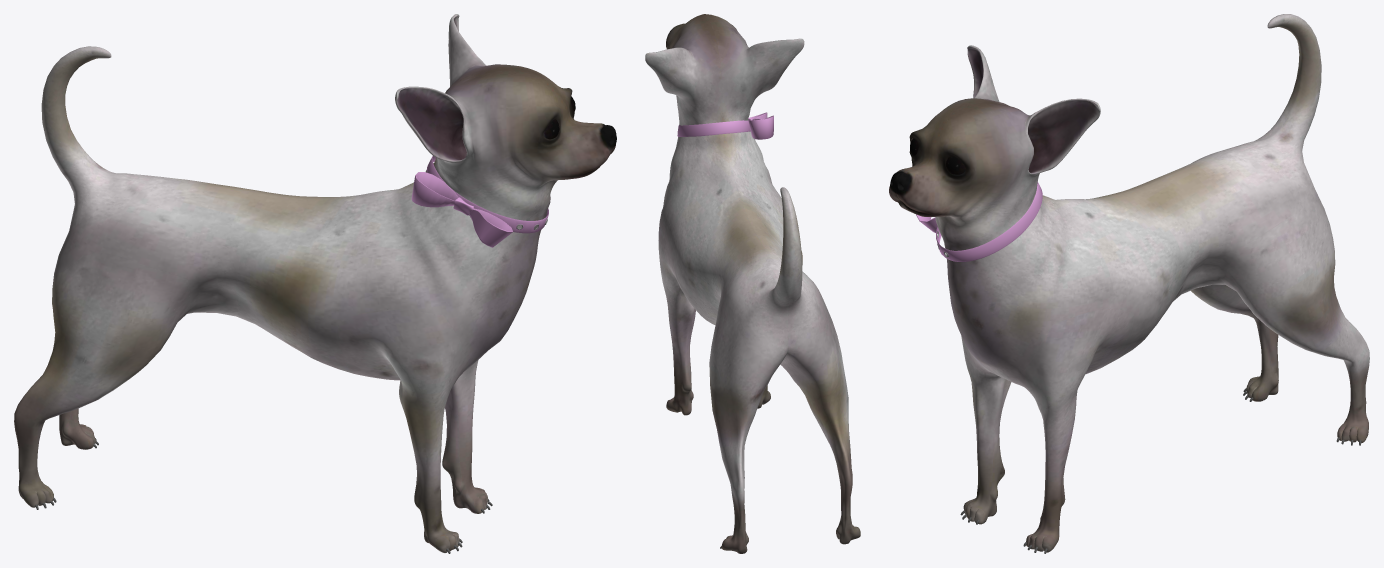
Rendered from dog.gltf.
3 renders of one model, left to right at view 1: azimuth 30°, elevation 25°; view 2: azimuth 150°, elevation 25°; view 3: azimuth 270°, elevation 25°, orthographic. The views are drawn at different scales.
Parts seen in each view (by area): view 1: 动物_狗; view 2: 动物_狗; view 3: 动物_狗.
Boxes of the visible parts, box(x1,y1,x2,y2) form: 动物_狗: box(14, 14, 616, 553); 动物_狗: box(645, 14, 860, 553); 动物_狗: box(889, 14, 1369, 553).
Size of the model in its own units: 0.0344 by 0.0378 by 0.0366.
Materials: 3 (1 with a texture image).
